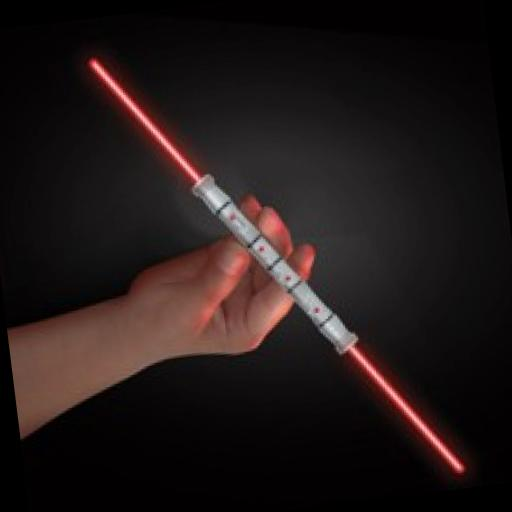sith saber: (88, 17, 469, 512)
